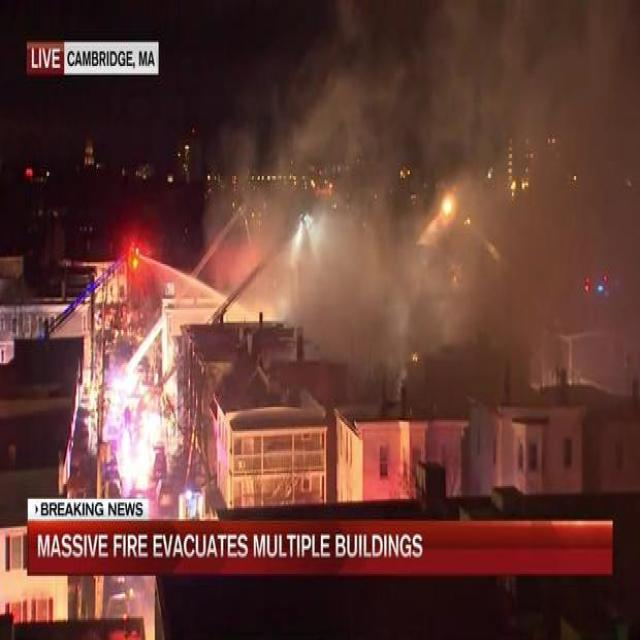Smoke: (331, 50, 640, 338)
